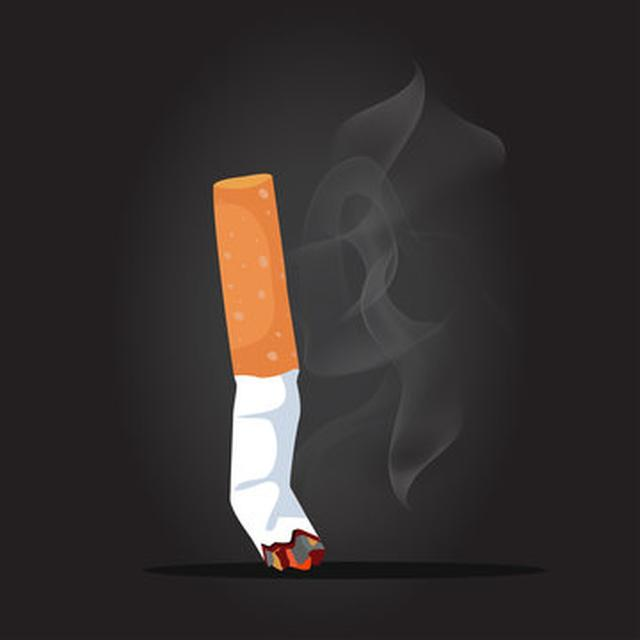Cigarette: (210, 171, 326, 572)
